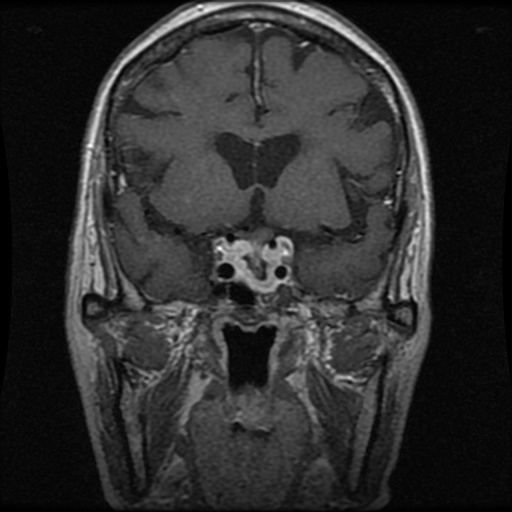pituitary: (210, 233, 293, 291)
